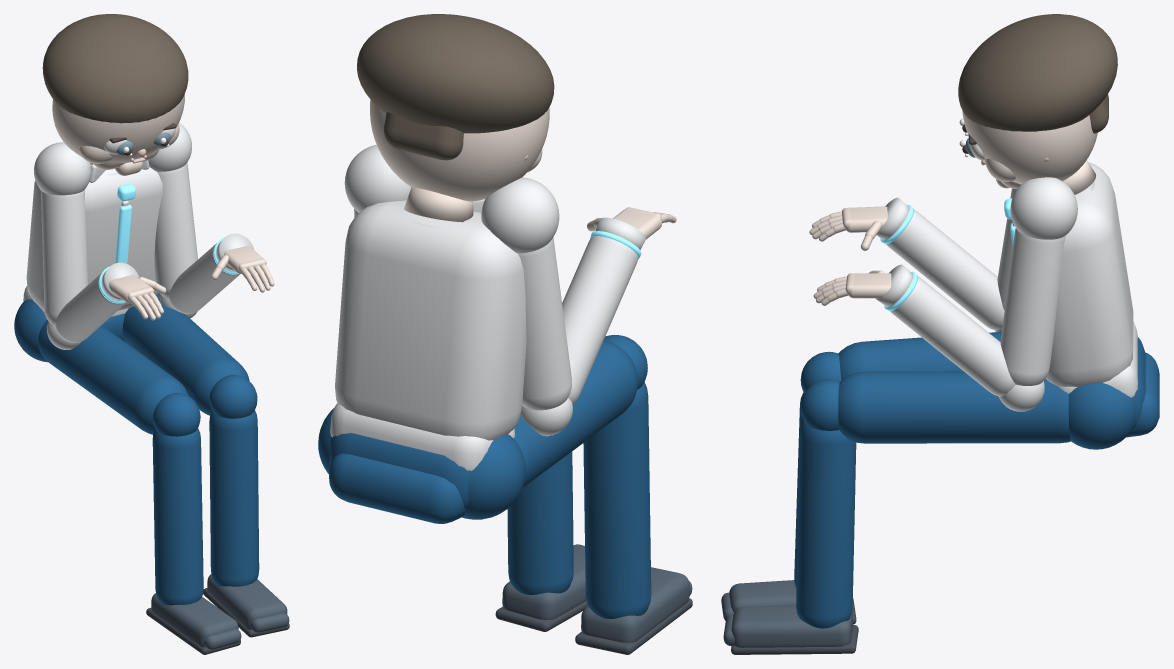
The model's file is lead-figure-sit.glb.
The picture shows the model from 3 angles, left to right: view 1: azimuth 30°, elevation 25°; view 2: azimuth 150°, elevation 25°; view 3: azimuth 270°, elevation 25°; orthographic projection. The views are drawn at different scales.
Visible parts, largest first — view 1: Hair, LowerLeg_L, LowerLeg_R, Shirt, UpperLeg_L, UpperLeg_R, UpperArm_L, UpperArm_R, Head, Shoulder_L, Foot_L, ForeArm_L (+16 smaller); view 2: Shirt, Hair, LowerLeg_L, Head, LowerLeg_R, ForeArm_L, UpperArm_L, UpperLeg_L, SeatMass, Shoulder_L, ShirtTail, Hip_L (+13 smaller); view 3: Hair, UpperLeg_R, Shirt, LowerLeg_R, UpperArm_R, ForeArm_R, ForeArm_L, Head, Foot_R, Hip_R, Shoulder_R, UpperLeg_L (+13 smaller).
Part boxes in pixels (x1,y1,x2,y2): Hair: (42, 14, 188, 123); LowerLeg_L: (152, 428, 203, 605); LowerLeg_R: (209, 410, 259, 586); Shirt: (26, 164, 162, 311); UpperLeg_L: (38, 320, 188, 434); UpperLeg_R: (122, 293, 249, 415); UpperArm_L: (41, 189, 88, 324); UpperArm_R: (154, 163, 197, 297); Head: (52, 93, 184, 163); Shoulder_L: (34, 142, 91, 195); Foot_L: (151, 593, 238, 647); ForeArm_L: (55, 273, 126, 342); Shirt: (335, 200, 526, 440); Hair: (357, 14, 554, 133); LowerLeg_L: (583, 382, 651, 618); Head: (370, 99, 549, 201); LowerLeg_R: (507, 451, 573, 594); ForeArm_L: (562, 236, 638, 404); UpperArm_L: (517, 237, 571, 410); UpperLeg_L: (514, 340, 637, 487); SeatMass: (329, 453, 465, 523); Shoulder_L: (481, 177, 559, 253); ShirtTail: (330, 403, 514, 470); Hip_L: (462, 434, 525, 519); Hair: (958, 14, 1117, 131); UpperLeg_R: (838, 371, 1070, 443); Shirt: (1045, 162, 1133, 386); LowerLeg_R: (796, 420, 856, 628); UpperArm_R: (1000, 228, 1065, 385); ForeArm_R: (887, 275, 1015, 396); ForeArm_L: (883, 208, 1004, 330); Head: (962, 110, 1097, 184); Foot_R: (731, 606, 852, 647); Hip_R: (1068, 383, 1135, 449); Shoulder_R: (1010, 177, 1077, 239); UpperLeg_L: (838, 332, 1001, 379).
Size of the model in its own units: 0.3756 by 1.24 by 0.8047.
